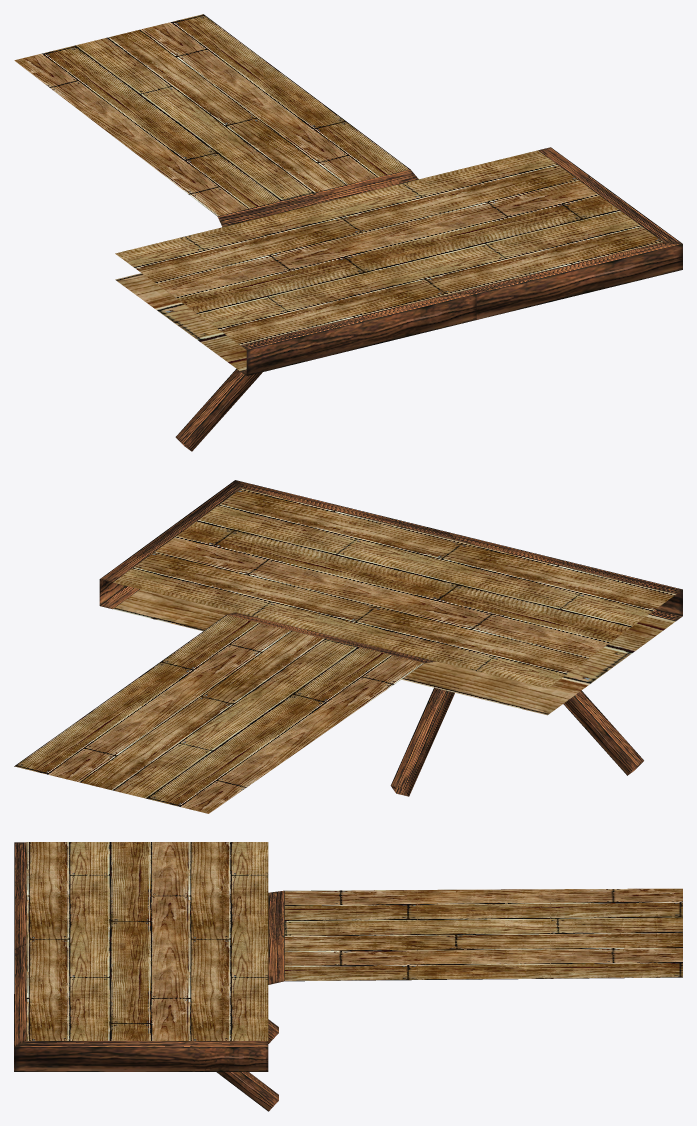
File: LAKETOWN_WAREHOUSE3_PS_WH3_PLATFORM33838__GX.fbx
3 renders of one model, top to bottom at view 1: azimuth 30°, elevation 25°; view 2: azimuth 150°, elevation 25°; view 3: azimuth 270°, elevation 25°, orthographic. The views are drawn at different scales.
Parts seen in each view (by area): view 1: LAKETOWN_WAREHOUSE3_PS_WH3_PLATFORM33838__GX; view 2: LAKETOWN_WAREHOUSE3_PS_WH3_PLATFORM33838__GX; view 3: LAKETOWN_WAREHOUSE3_PS_WH3_PLATFORM33838__GX.
Boxes of the visible parts, x1,y1,x2,y2 form: LAKETOWN_WAREHOUSE3_PS_WH3_PLATFORM33838__GX: (14,14,682,451); LAKETOWN_WAREHOUSE3_PS_WH3_PLATFORM33838__GX: (14,480,682,813); LAKETOWN_WAREHOUSE3_PS_WH3_PLATFORM33838__GX: (14,842,682,1111).
Bounding box in the file's own units: 61903 × 19178 × 82900.
3 materials, 3 textured.
